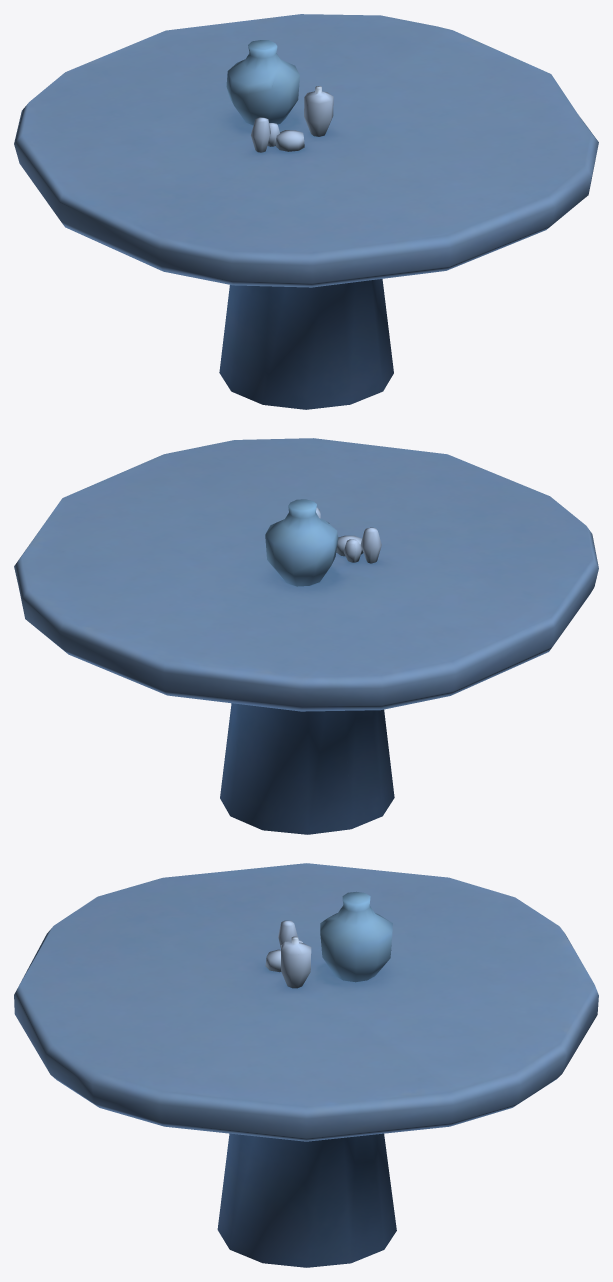
File: Meshy_AI_Blue_Stillness_20261128_texture.fbx
3 views of the same model, one above another, from view 1: azimuth 30°, elevation 25°; view 2: azimuth 150°, elevation 25°; view 3: azimuth 270°, elevation 25° (orthographic). The views are drawn at different scales.
Visible parts, largest first — view 1: geometry_0; view 2: geometry_0; view 3: geometry_0.
Boxes of the visible parts, <box> form: geometry_0: <box>14,14,598,409</box>; geometry_0: <box>14,438,598,834</box>; geometry_0: <box>14,863,598,1267</box>.
Size of the model in its own units: 100 by 60.92 by 100.
Materials: 1 (1 with a texture image).
